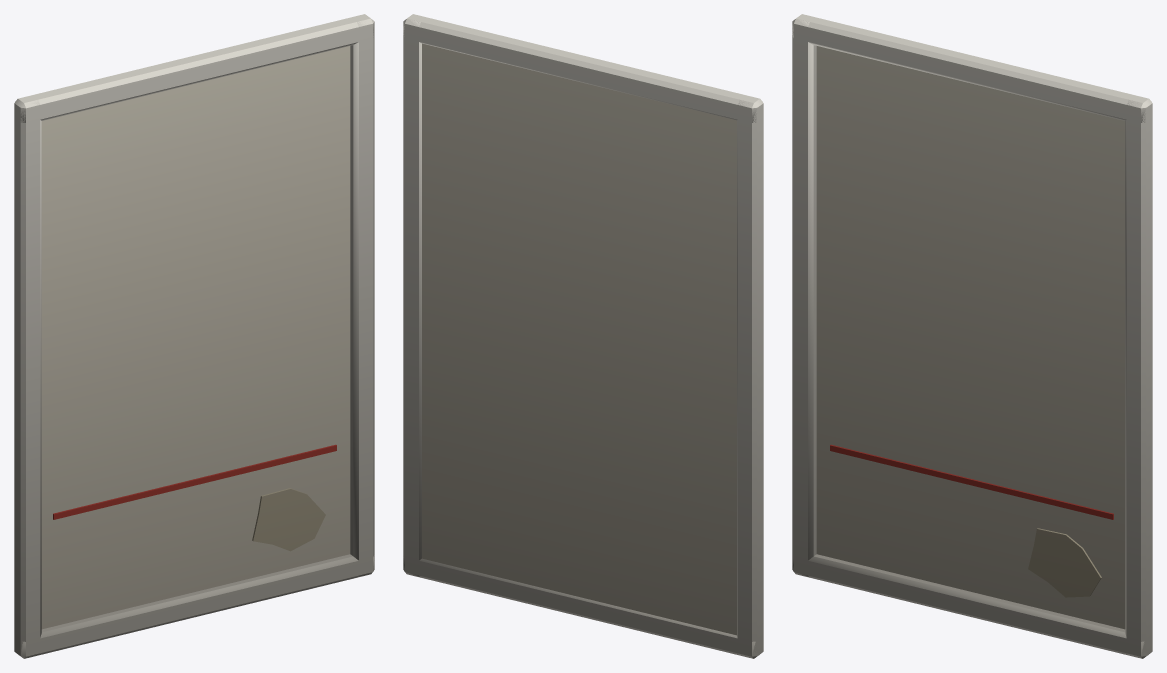
File: 83_tableau_acuite.fbx
The picture shows the model from 3 angles, left to right: view 1: azimuth 30°, elevation 25°; view 2: azimuth 150°, elevation 25°; view 3: azimuth 330°, elevation 25°; orthographic projection.
Parts seen in each view (by area): view 1: Tableau, Cadre; view 2: Tableau, Cadre; view 3: Tableau, Cadre.
Boxes of the visible parts, x1,y1,x2,y2 form: Tableau: [41, 46, 350, 629]; Cadre: [14, 14, 374, 658]; Tableau: [422, 43, 736, 635]; Cadre: [403, 14, 763, 658]; Tableau: [816, 46, 1125, 629]; Cadre: [792, 14, 1152, 658].
Size of the model in its own units: 0.56 by 0.84 by 0.028.
Materials: 1 (1 with a texture image).
